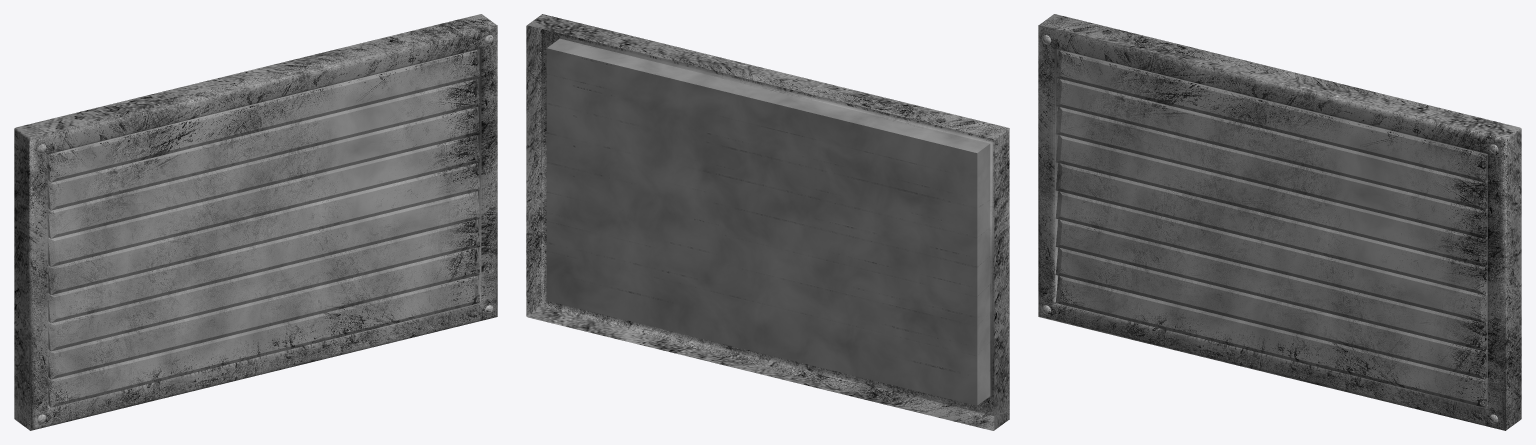
Rendered from ventilation.glb.
3 renders of one model, left to right at view 1: azimuth 30°, elevation 25°; view 2: azimuth 150°, elevation 25°; view 3: azimuth 330°, elevation 25°, orthographic.
Visible parts, largest first — view 1: Metal Vent; view 2: Metal Vent; view 3: Metal Vent.
Boxes of the visible parts, box(x1,y1,x2,y2) form: Metal Vent: box(14, 14, 497, 430); Metal Vent: box(526, 14, 1009, 430); Metal Vent: box(1038, 14, 1521, 430).
Bounding box in the file's own units: 2.59 × 1.54 × 0.1763.
Materials: 1 (1 with a texture image).
